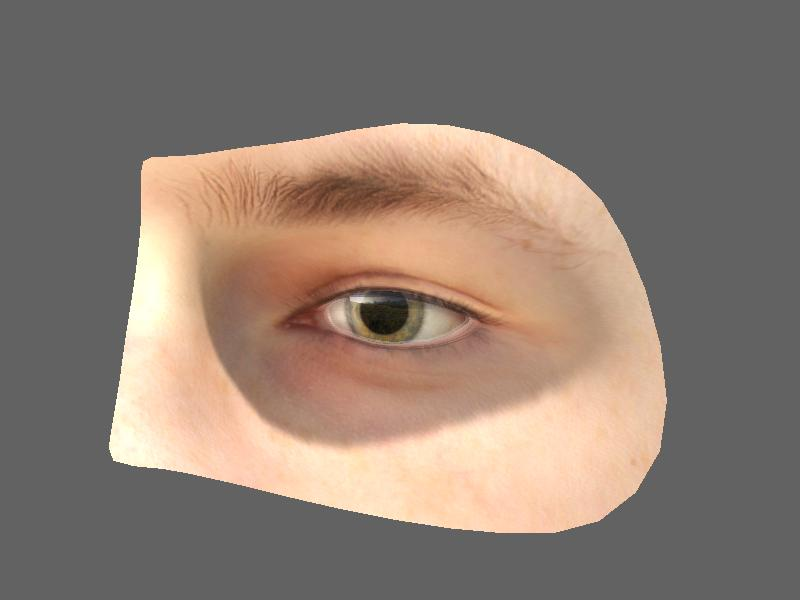iris: (345, 288, 433, 345)
